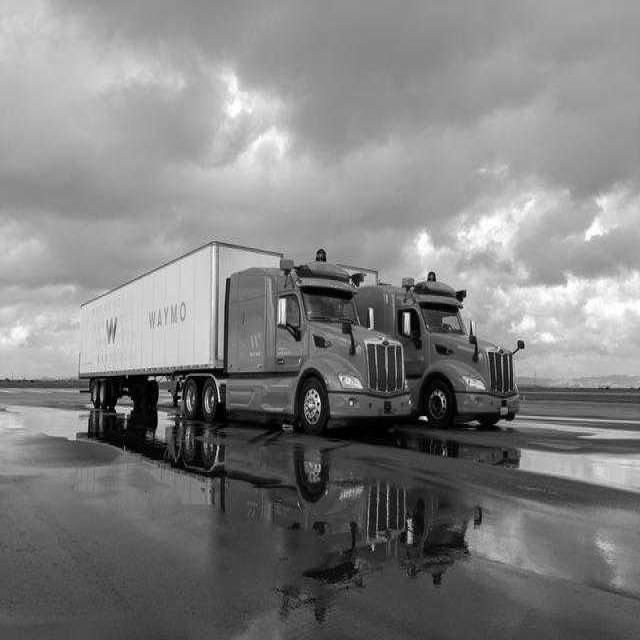Truck: (80, 242, 412, 432), (358, 265, 526, 421)
